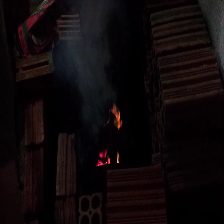fire_l: (112, 104, 123, 129), (97, 151, 110, 166), (117, 153, 120, 163)
